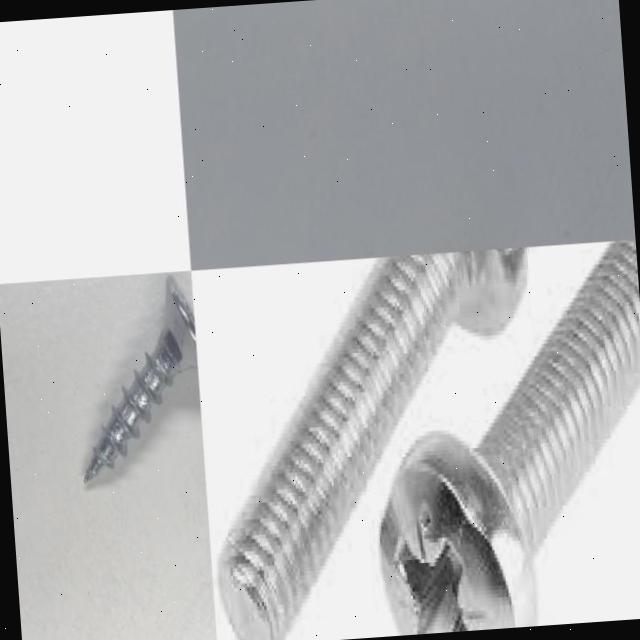Screw: (216, 246, 532, 640), (375, 239, 640, 636), (84, 274, 197, 480)
